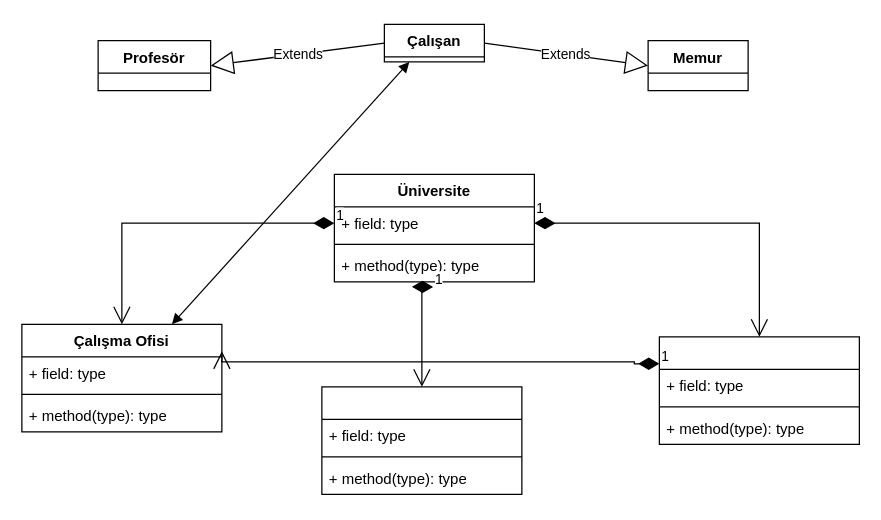
This 881x520 diagram has some shape labels left out. Each missing label, with the box of its shape:
Departman: (658, 336, 859, 444)
Sınıflık: (321, 386, 522, 494)
